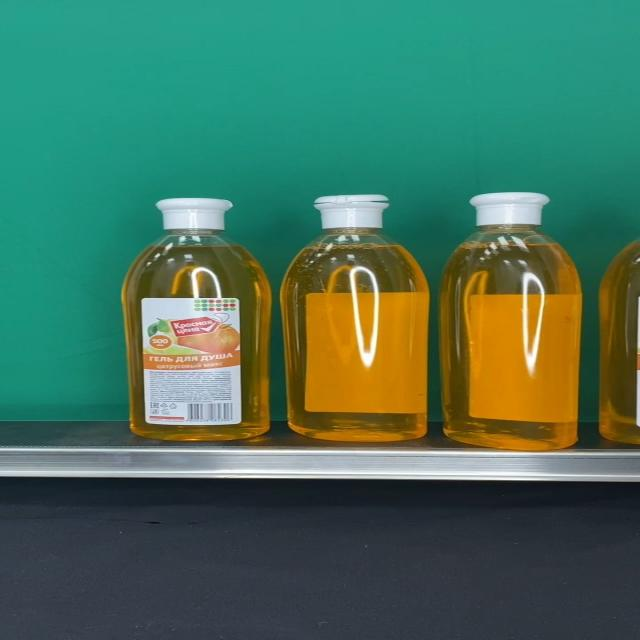Bottle: (440, 193, 582, 450), (281, 195, 429, 441), (122, 198, 272, 440)
Cap: (469, 193, 551, 225), (156, 198, 233, 232), (315, 195, 391, 229)
